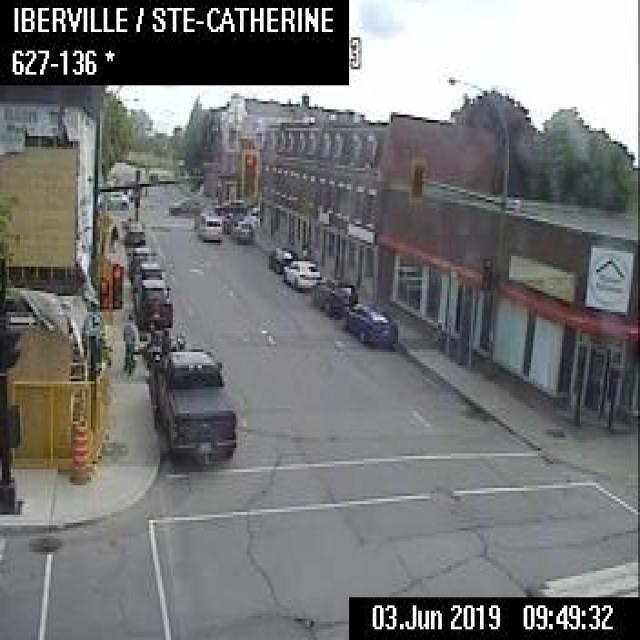construction: (70, 415, 90, 483)
pedestrian: (122, 308, 139, 374), (106, 221, 117, 252), (345, 284, 358, 309)
vehicle: (147, 341, 238, 472), (342, 304, 402, 349), (310, 274, 351, 317), (133, 279, 168, 325), (282, 257, 317, 288), (129, 260, 165, 290), (194, 207, 222, 240), (268, 244, 297, 273), (166, 194, 199, 217), (122, 216, 143, 248), (213, 196, 245, 217), (126, 246, 153, 270), (228, 218, 252, 243), (103, 188, 128, 206)
